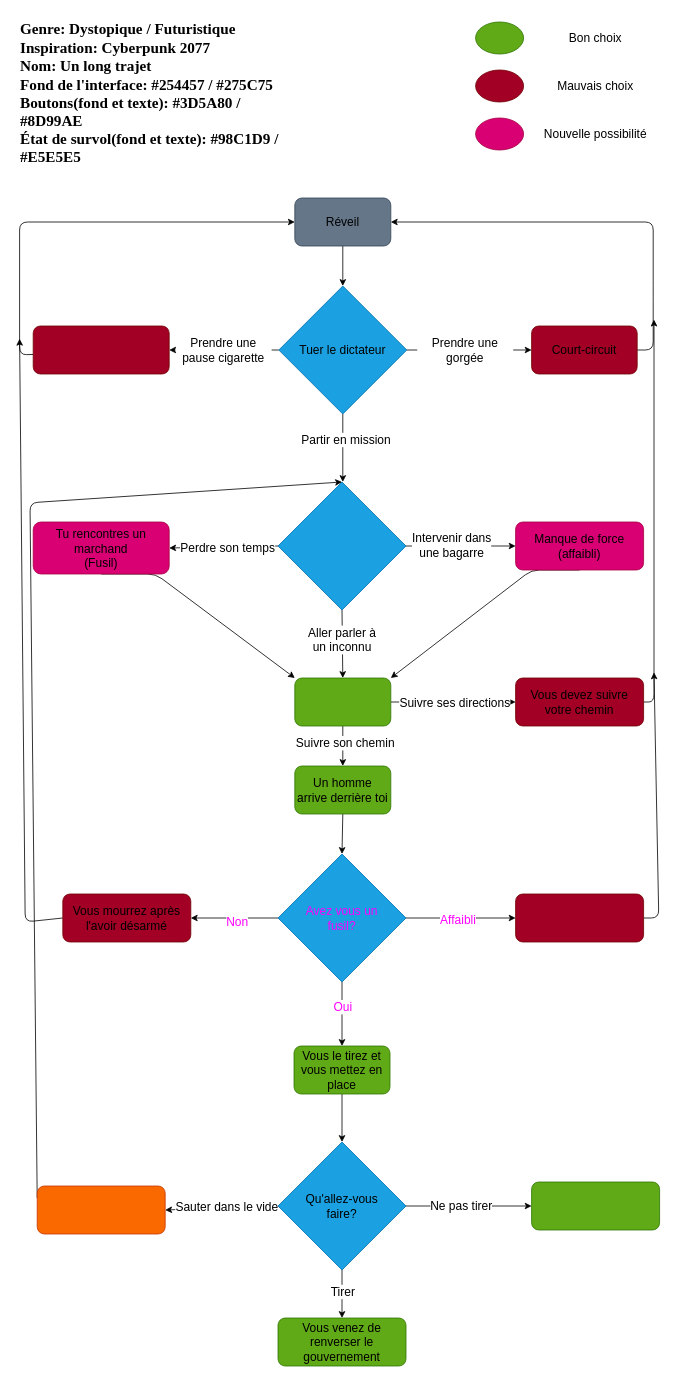
The diagram is 679 pixels wide and 1380 high, and some of its shapes have lost their labels. Here are the shapes that lost their labels. From the top down, the centre of each, then its label:
point 100,349: Fumer tue
point 341,545: Tu prends une marche
point 342,701: Te donne des directions
point 579,917: Vous mourrez tiré par l'inconnu
point 100,1209: Une sorte de flashback apparaît
point 595,1205: Parfois, la violence n'est pas le bon choix
